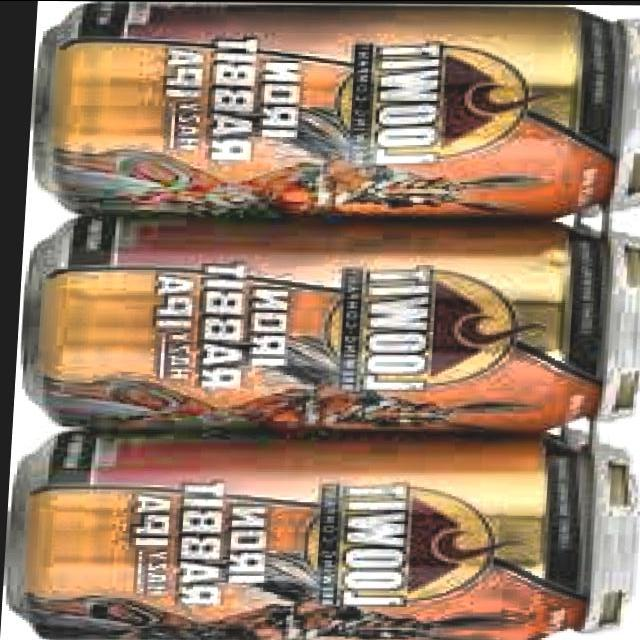Aluminum Can: (0, 424, 640, 640), (20, 0, 640, 219), (10, 215, 640, 430)
